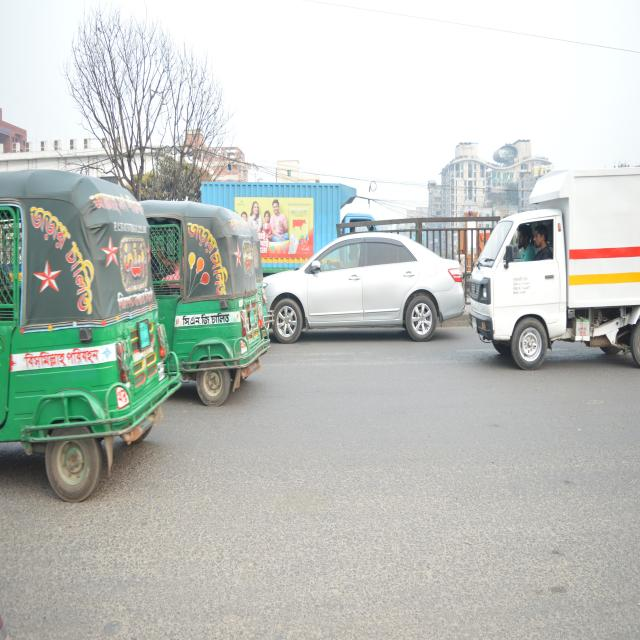car: (258, 237, 463, 343)
pickup-van: (467, 158, 640, 370)
truck: (190, 170, 383, 275)
